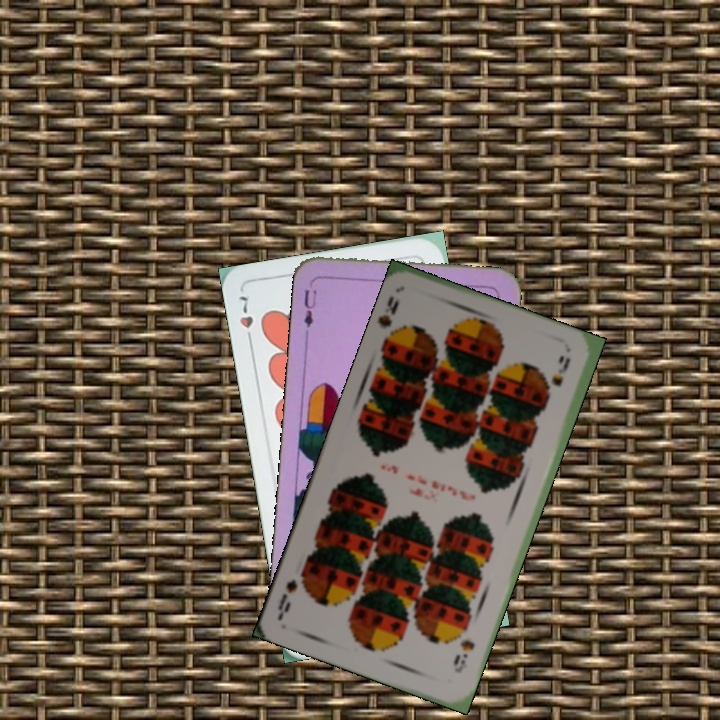EU: (300, 278, 319, 330)
H7: (235, 291, 256, 348)
S9: (375, 292, 403, 347), (449, 635, 478, 676)
